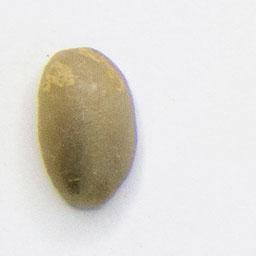longberry: (32, 41, 141, 210)
